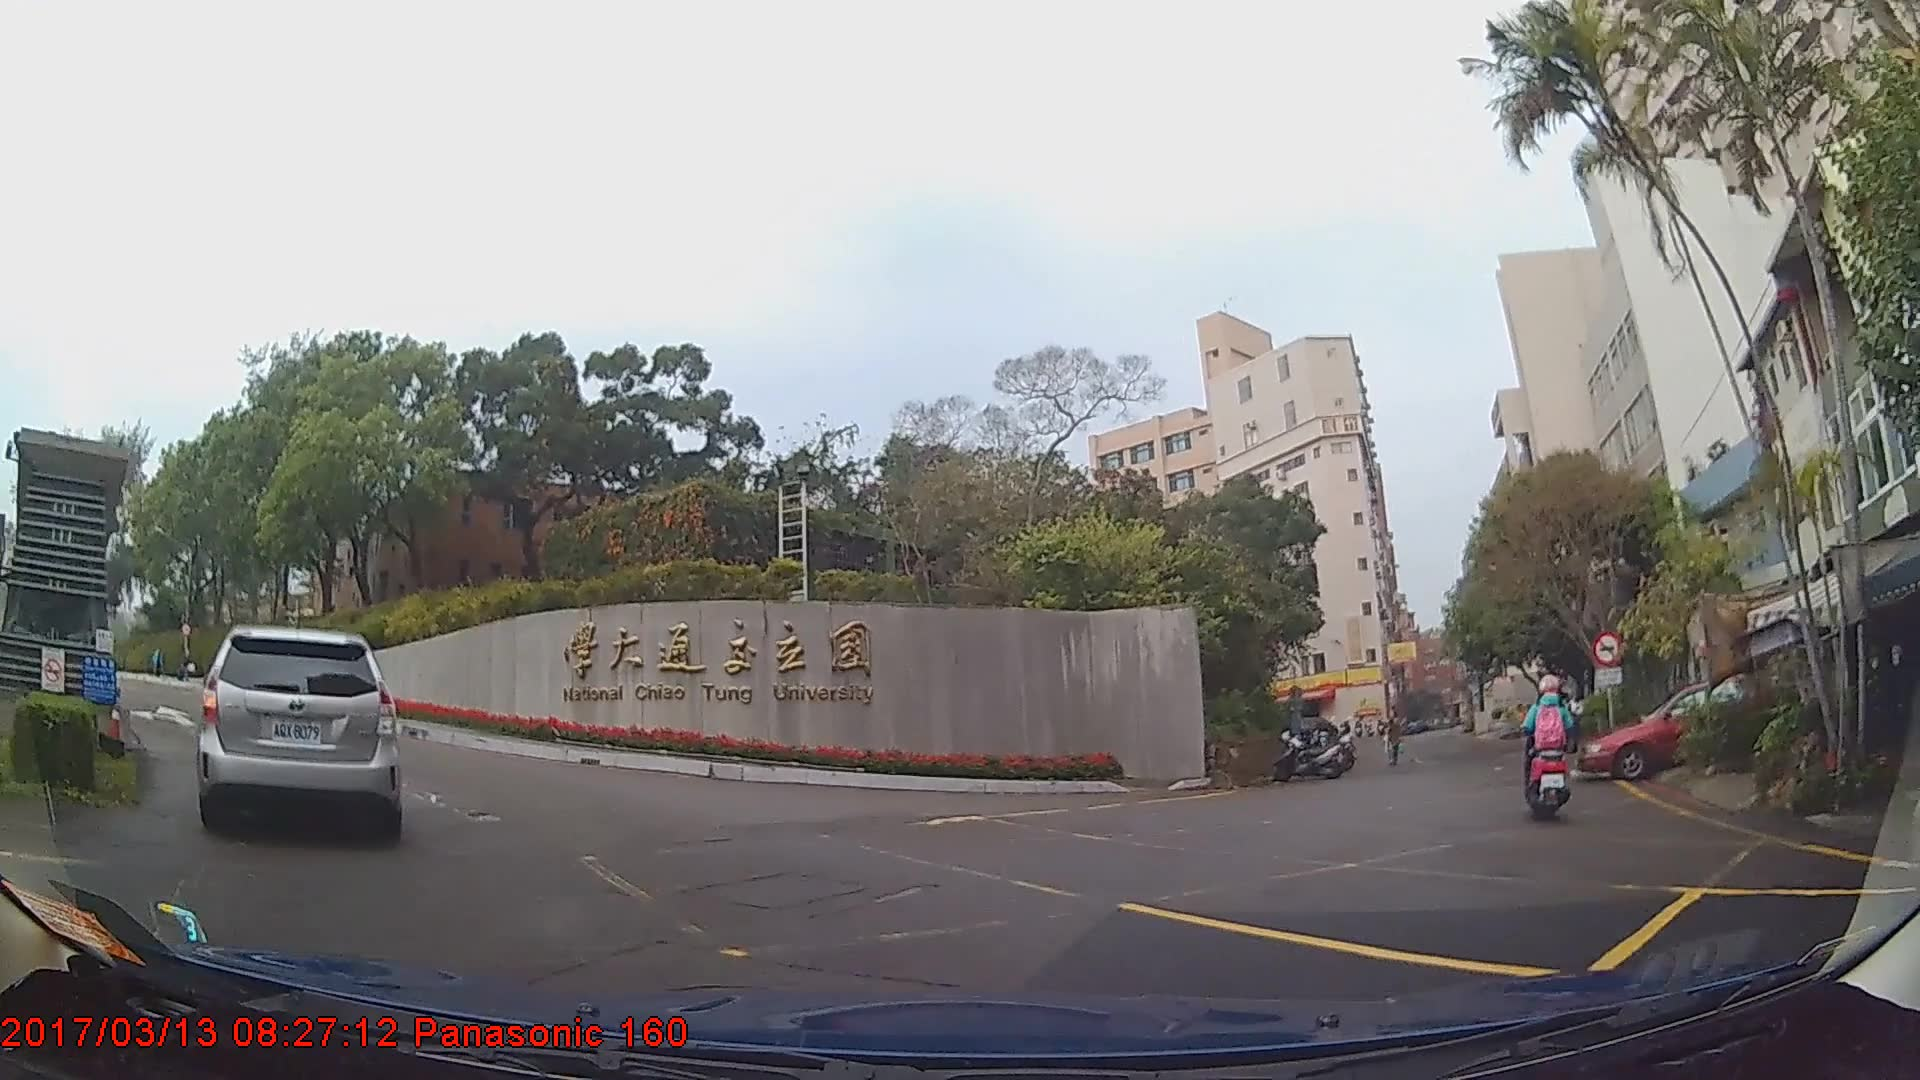pedestrian: (1381, 711, 1406, 769)
rider: (1524, 665, 1575, 817)
vehicle: (197, 624, 401, 843), (1577, 680, 1774, 778)
